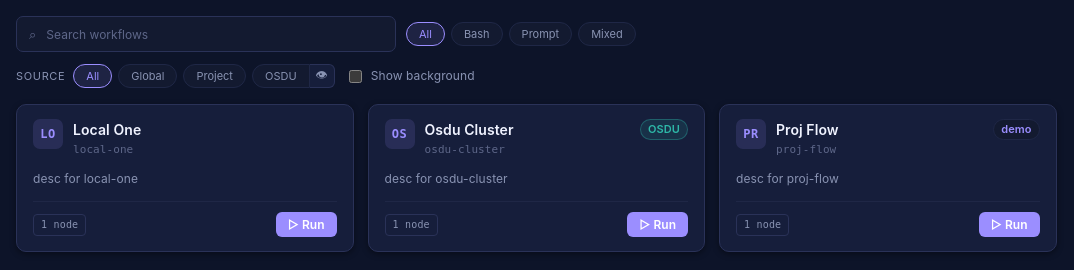
Test: WorkflowList — provenance filtering › hiding a rib drops its workflows from the catalog (view-only)
Expected: the text "osdu-cluster" is shown, left=424, top=141, right=514, bottom=158
Click the button named "Hide OSDU workflows" at (322, 76), box left=310, top=64, right=335, bottom=88
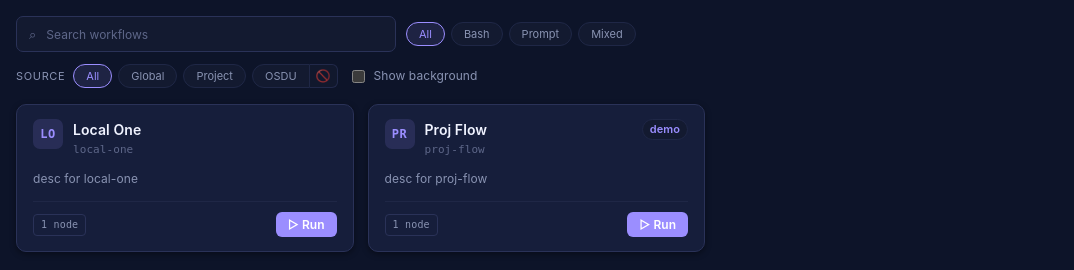
Expected: the text "local-one" is shown, left=73, top=141, right=141, bottom=158
Result: the text "osdu-cluster" is gone
